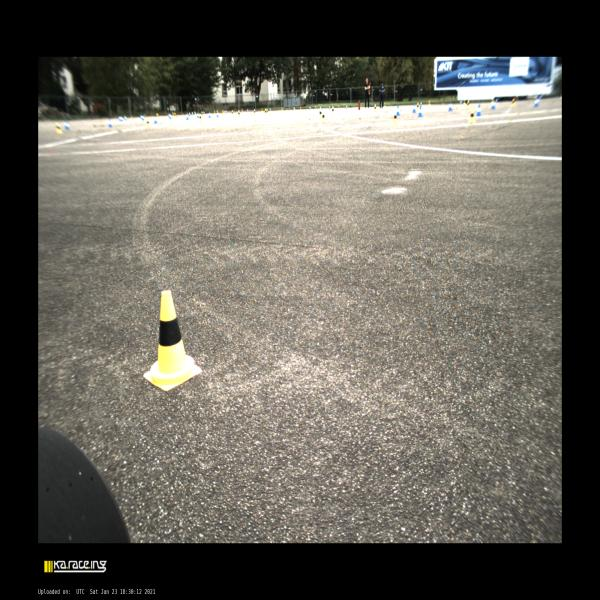blue_cone: (476, 104, 482, 116), (490, 100, 496, 110), (533, 97, 539, 107), (64, 121, 70, 130), (418, 106, 423, 116), (108, 118, 113, 128), (412, 103, 417, 112), (448, 102, 453, 111), (153, 116, 158, 123), (397, 105, 400, 115), (140, 115, 145, 121), (186, 112, 189, 120), (168, 113, 172, 119), (208, 111, 211, 118), (118, 115, 121, 122), (216, 112, 219, 117), (197, 112, 199, 118), (319, 106, 321, 112), (124, 116, 127, 120), (121, 116, 123, 122), (496, 98, 498, 103), (460, 100, 462, 105), (420, 101, 422, 106), (192, 111, 194, 115), (247, 109, 249, 112), (224, 110, 226, 113), (203, 111, 205, 114), (189, 111, 190, 116), (329, 106, 330, 110)
yellow_cone: (143, 290, 202, 391), (467, 107, 476, 123), (56, 122, 62, 134), (393, 112, 398, 124), (511, 97, 516, 107), (322, 112, 326, 122), (198, 113, 202, 123), (146, 118, 150, 128), (318, 109, 322, 119), (466, 100, 470, 109), (237, 110, 241, 118), (374, 104, 377, 113), (416, 102, 419, 110), (253, 109, 256, 116), (332, 106, 334, 115), (559, 93, 562, 99), (428, 100, 431, 106), (174, 112, 177, 118), (266, 108, 268, 116), (264, 108, 266, 116), (490, 99, 493, 104), (463, 100, 466, 105), (384, 102, 386, 108), (232, 110, 234, 116), (201, 111, 203, 117), (172, 112, 174, 118), (156, 113, 158, 119), (338, 105, 340, 110), (261, 107, 263, 112), (222, 110, 224, 115), (281, 107, 283, 111), (242, 109, 244, 113), (223, 110, 225, 114), (216, 110, 218, 114), (214, 110, 216, 114), (315, 105, 316, 110), (226, 110, 227, 115)
